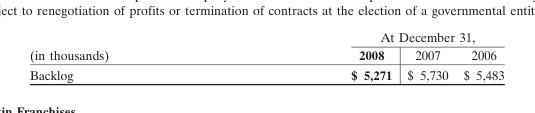table: (29, 29, 503, 82)
table column: (29, 29, 229, 82), (229, 29, 398, 82), (398, 29, 455, 82), (455, 29, 503, 82)
table column header: (29, 29, 503, 64)
table row: (29, 45, 503, 64), (29, 64, 503, 82), (29, 29, 503, 45)
table spanning cell: (29, 29, 229, 64), (229, 29, 503, 45)
